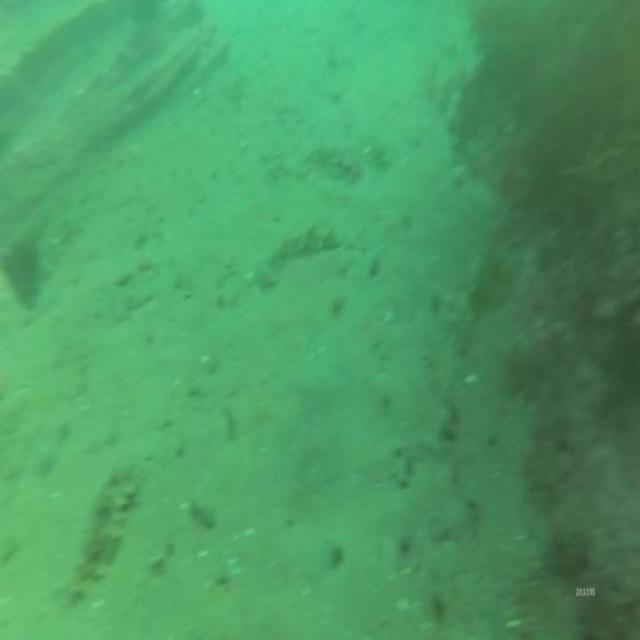holothurian: (73, 462, 142, 612)
waterweeds: (481, 3, 640, 319)
